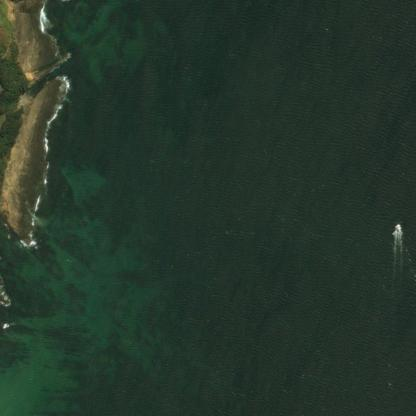ship: (388, 213, 404, 241)
